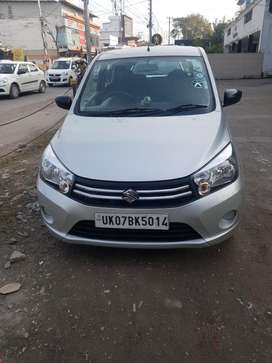UK07BK5014: (95, 213, 169, 229)
